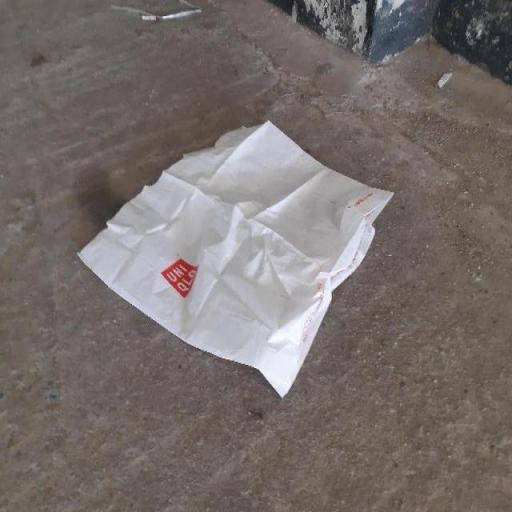plastic-bag: (74, 115, 396, 402)
